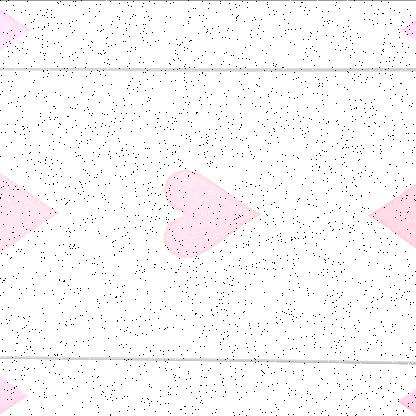3h: (0, 1, 49, 67)
